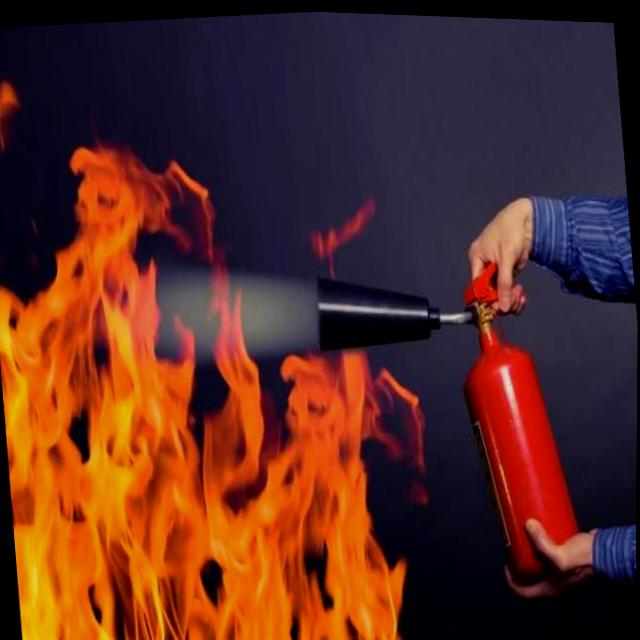FireExtinguisher: (305, 217, 595, 609)
